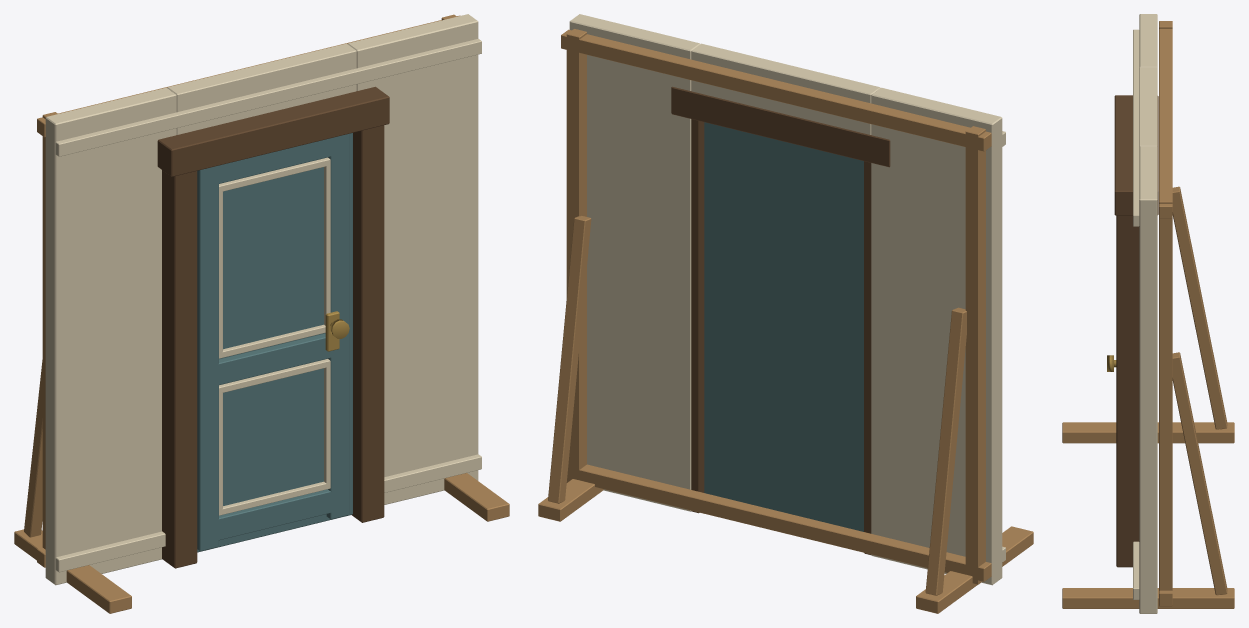
The model's file is S001_hinged_door_wall_rebuilt.glb.
3 views of the same model, side by side, from view 1: azimuth 30°, elevation 25°; view 2: azimuth 150°, elevation 25°; view 3: azimuth 270°, elevation 25° (orthographic). The views are drawn at different scales.
Parts seen in each view (by area): view 1: Warm_matte_scenic_paint, Muted_teal_scenic_paint, Dark_stained_structural_timber, Scenic_framing_warm_bare_timber, Aged_brass_hardware; view 2: Warm_matte_scenic_paint, Muted_teal_scenic_paint, Scenic_framing_warm_bare_timber, Dark_stained_structural_timber; view 3: Scenic_framing_warm_bare_timber, Warm_matte_scenic_paint, Dark_stained_structural_timber.
Boxes of the visible parts, <box> form: Warm_matte_scenic_paint: <box>45,14,481,585</box>; Muted_teal_scenic_paint: <box>197,133,352,552</box>; Dark_stained_structural_timber: <box>157,86,389,568</box>; Scenic_framing_warm_bare_timber: <box>14,14,509,613</box>; Aged_brass_hardware: <box>325,311,349,351</box>; Warm_matte_scenic_paint: <box>569,14,1005,585</box>; Muted_teal_scenic_paint: <box>704,122,863,531</box>; Scenic_framing_warm_bare_timber: <box>538,29,1033,613</box>; Dark_stained_structural_timber: <box>671,86,890,555</box>; Scenic_framing_warm_bare_timber: <box>1062,21,1234,608</box>; Warm_matte_scenic_paint: <box>1133,14,1157,613</box>; Dark_stained_structural_timber: <box>1114,95,1158,567</box>.
Bounding box in the file's own units: 2.4 × 2.5 × 0.94.
